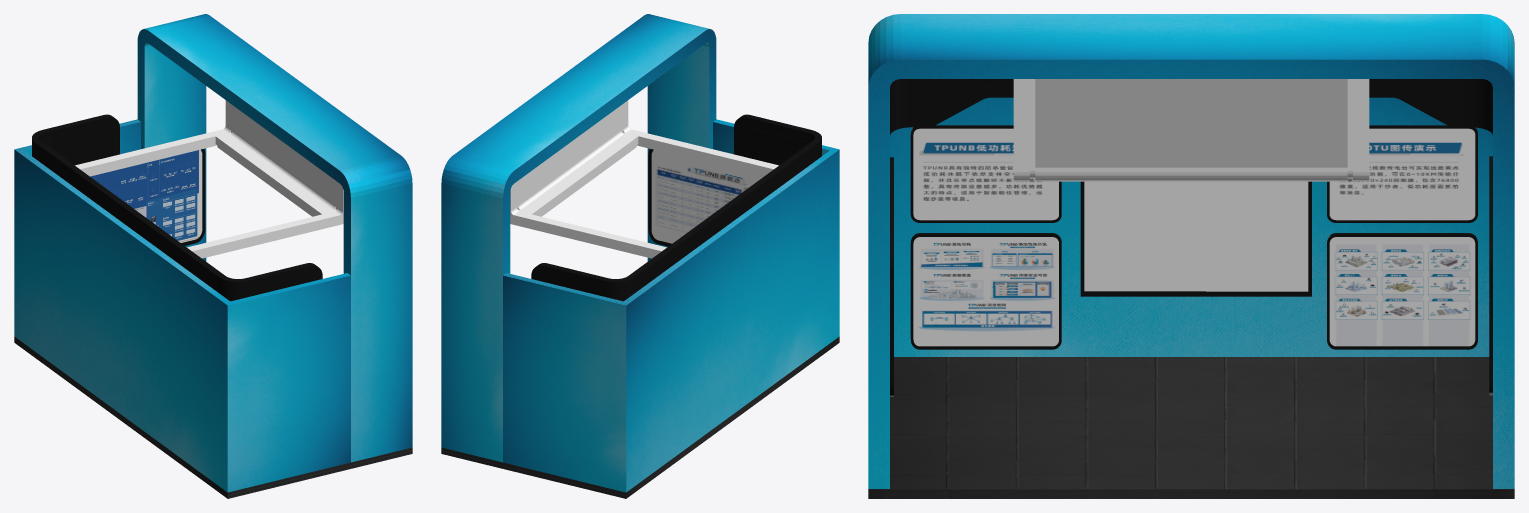
The model's file is Booth3.fbx.
3 renders of one model, left to right at view 1: azimuth 30°, elevation 25°; view 2: azimuth 150°, elevation 25°; view 3: azimuth 270°, elevation 25°, orthographic. The views are drawn at different scales.
Parts seen in each view (by area): view 1: Structure, Object002; view 2: Structure, Object001; view 3: Structure, Object007, Screen3, 001, Object004, Object003, p4, Object001, Object002.
Boxes of the visible parts, x1,y1,x2,y2 form: Structure: (14,14,412,498); Object002: (90,149,205,245); Structure: (441,14,839,498); Object001: (648,149,763,246); Structure: (868,14,1514,498); Object007: (1035,79,1347,167); Screen3: (1084,181,1308,291); 001: (910,233,1061,349); Object004: (1327,233,1477,349); Object003: (1327,125,1477,222); p4: (910,125,1061,222); Object001: (890,157,893,396); Object002: (1489,156,1492,395).
Bounding box in the file's own units: 33.06 × 49.57 × 66.09.
